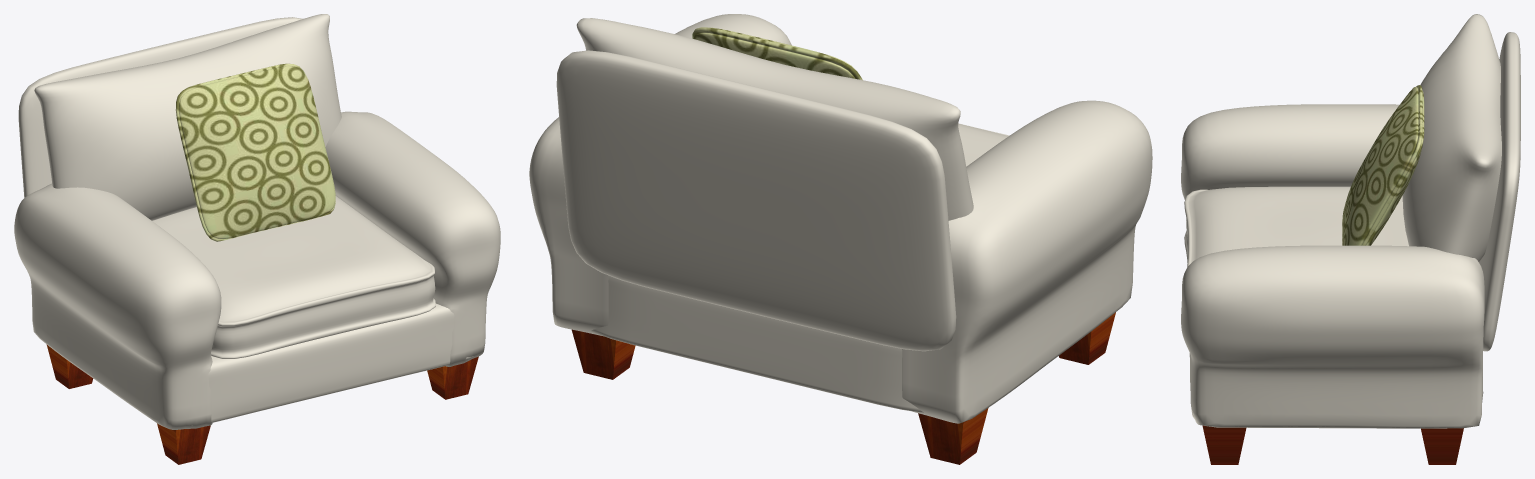
The model's file is singleChair.glb.
The picture shows the model from 3 angles, left to right: view 1: azimuth 30°, elevation 25°; view 2: azimuth 150°, elevation 25°; view 3: azimuth 270°, elevation 25°; orthographic projection. The views are drawn at different scales.
Visible parts, largest first — view 1: singleChair; view 2: singleChair; view 3: singleChair.
Part boxes in pixels (x1,y1,x2,y2): singleChair: [14, 14, 500, 464]; singleChair: [529, 14, 1152, 464]; singleChair: [1181, 14, 1520, 464].
Bounding box in the file's own units: 1.01 × 0.7504 × 0.7706.
3 materials, 2 textured.
